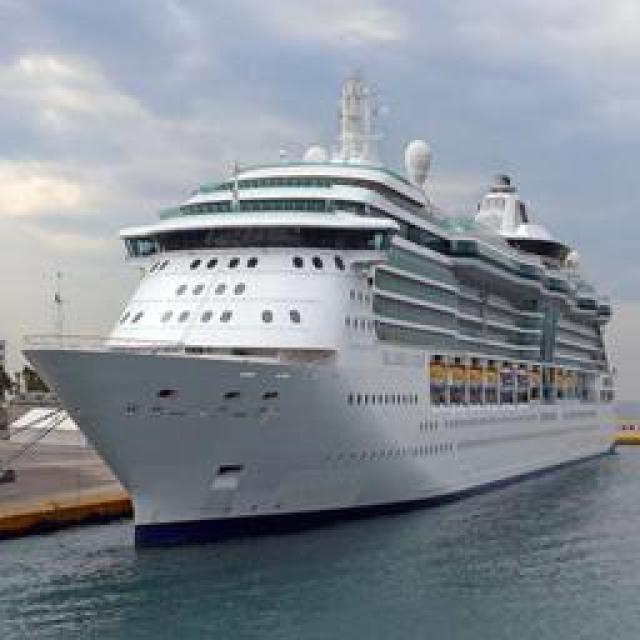Ship: (18, 122, 623, 545)
